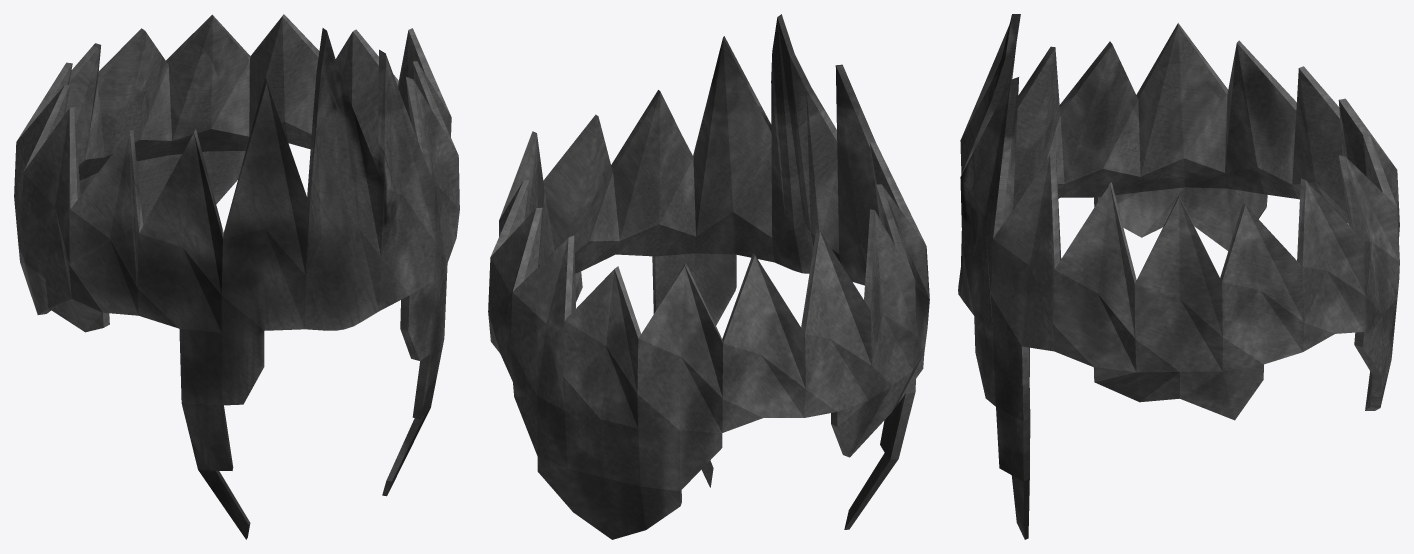
The model's file is Iron_Crown.obj.
3 renders of one model, left to right at view 1: azimuth 30°, elevation 25°; view 2: azimuth 150°, elevation 25°; view 3: azimuth 270°, elevation 25°, orthographic.
Parts seen in each view (by area): view 1: Iron_Crown; view 2: Iron_Crown; view 3: Iron_Crown.
Boxes of the visible parts, box(x1,y1,x2,y2) form: Iron_Crown: box(14, 14, 459, 539); Iron_Crown: box(488, 14, 929, 539); Iron_Crown: box(958, 14, 1399, 539).
Bounding box in the file's own units: 0.1947 × 0.241 × 0.192.
1 material, 1 textured.
